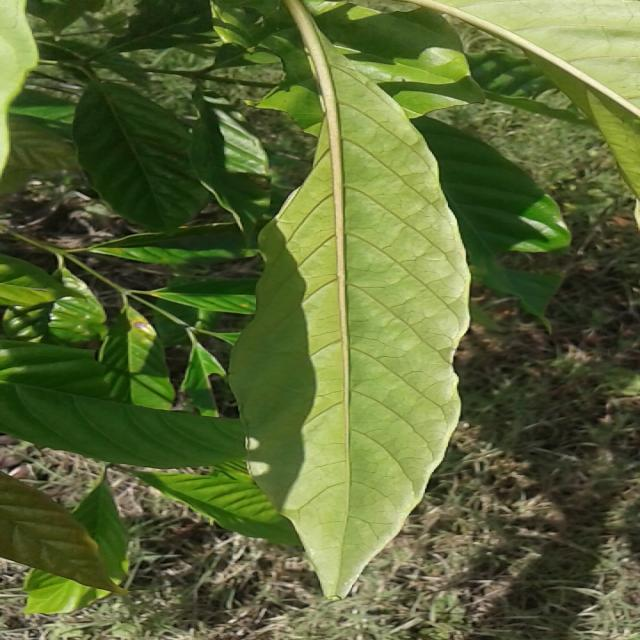Sanas: (208, 0, 470, 600)
